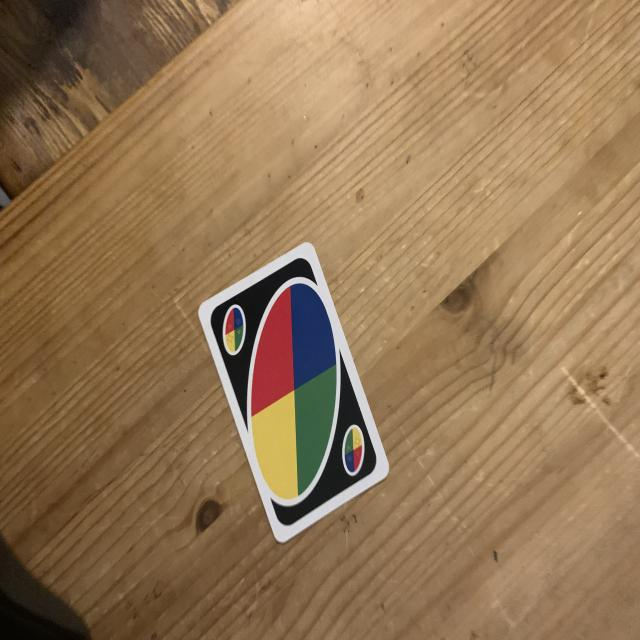lcolor-40: (216, 302, 251, 356)
